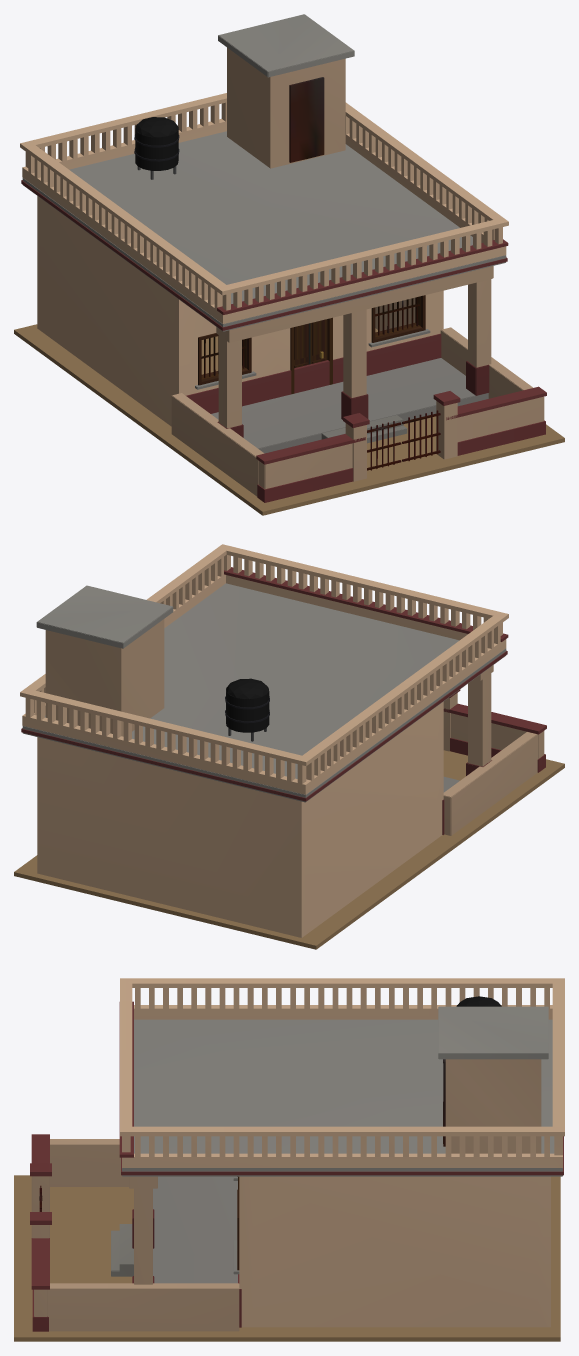
The model's file is house_kit_d.glb.
3 views of the same model, one above another, from view 1: azimuth 30°, elevation 25°; view 2: azimuth 150°, elevation 25°; view 3: azimuth 270°, elevation 25° (orthographic). The views are drawn at different scales.
Parts seen in each view (by area): view 1: hb_main, hb_metal, hb_props; view 2: hb_main; view 3: hb_main.
Part boxes in pixels (x1,y1,x2,y2): hb_main: (14, 14, 564, 515); hb_metal: (201, 77, 440, 470); hb_props: (198, 295, 425, 394); hb_main: (14, 544, 564, 949); hb_main: (14, 978, 564, 1341).
Size of the model in its own units: 8 by 6.43 by 11.49.
